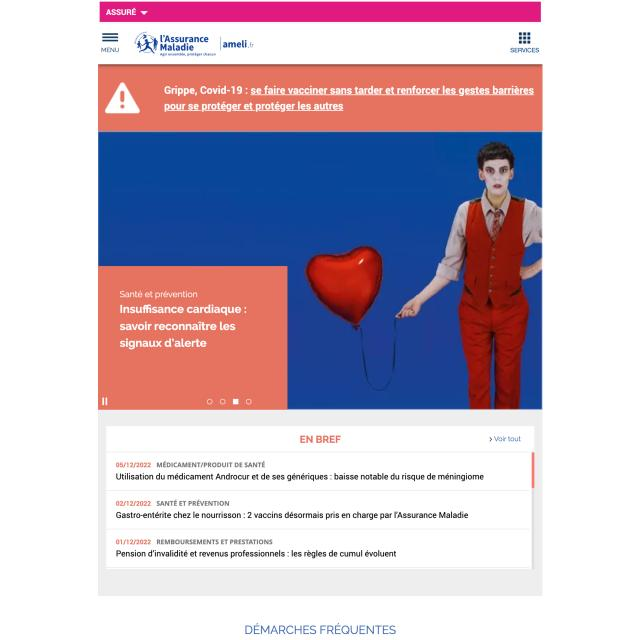CheckBox: (508, 29, 542, 55)
ImageView: (100, 65, 542, 132)
bag: (95, 0, 542, 64)
card: (99, 133, 542, 409)
date picker: (130, 30, 218, 59), (222, 35, 259, 54)
decoration: (98, 30, 122, 56)
